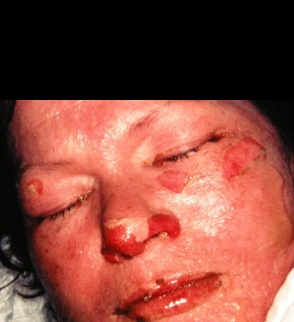SJS-TEN: (211, 124, 294, 300), (102, 268, 261, 322), (94, 204, 190, 269), (149, 156, 201, 201), (19, 170, 52, 206)
